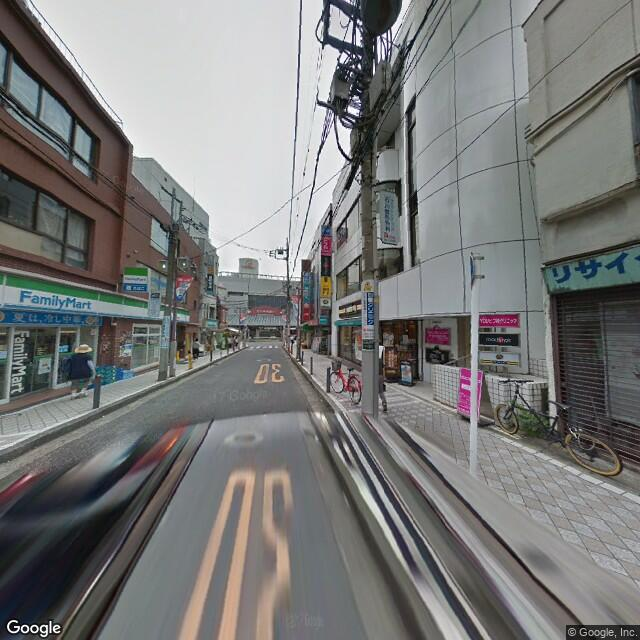family_mart: (1, 267, 191, 324), (16, 285, 95, 314), (8, 326, 28, 395), (121, 260, 149, 293)
